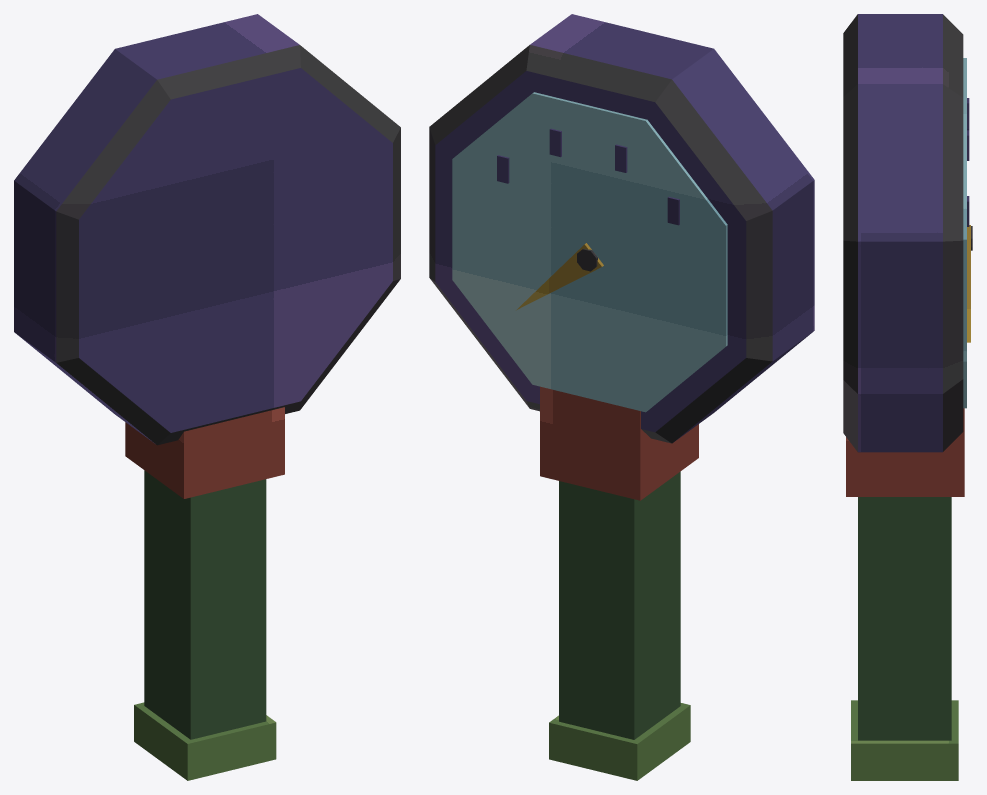
Rendered from block_armor_inspection_tool.obj.
3 views of the same model, side by side, from view 1: azimuth 30°, elevation 25°; view 2: azimuth 150°, elevation 25°; view 3: azimuth 270°, elevation 25° (orthographic).
Parts seen in each view (by area): view 1: copper_case, steel_grip, iron_socket, handle_end; view 2: dial, copper_case, steel_grip, iron_socket, handle_end, indicator; view 3: copper_case, steel_grip, iron_socket, handle_end, dial, indicator.
Part boxes in pixels (left/top/right/bottom): copper_case: left=14, top=14, right=400, bottom=445; steel_grip: left=144, top=470, right=266, bottom=739; iron_socket: left=125, top=407, right=284, bottom=498; handle_end: left=134, top=702, right=276, bottom=780; dial: left=452, top=92, right=727, bottom=412; copper_case: left=429, top=14, right=814, bottom=443; steel_grip: left=559, top=471, right=680, bottom=739; iron_socket: left=540, top=386, right=698, bottom=500; handle_end: left=549, top=703, right=690, bottom=780; indicator: left=516, top=243, right=603, bottom=310; copper_case: left=843, top=14, right=963, bottom=452; steel_grip: left=858, top=497, right=951, bottom=740; iron_socket: left=846, top=408, right=964, bottom=496; handle_end: left=851, top=700, right=958, bottom=780; dial: left=963, top=58, right=966, bottom=408; indicator: left=967, top=225, right=970, bottom=342.
Size of the model in its own units: 0.4273 by 0.8353 by 0.1381.
